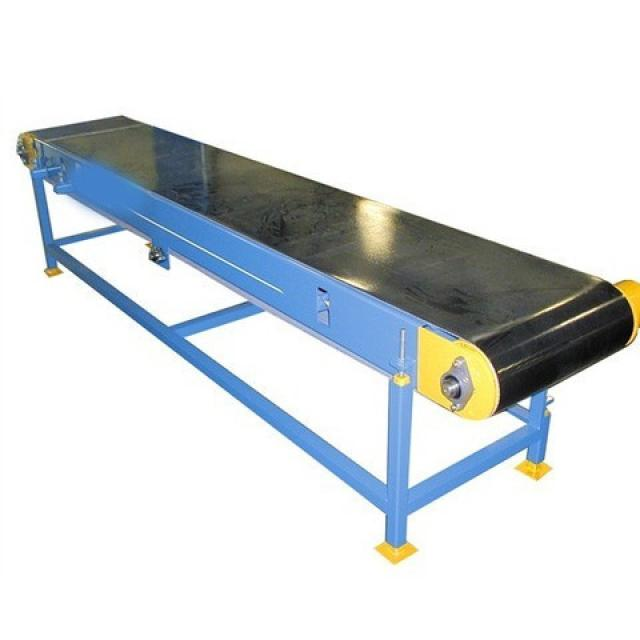conveyor: (10, 84, 640, 523)
